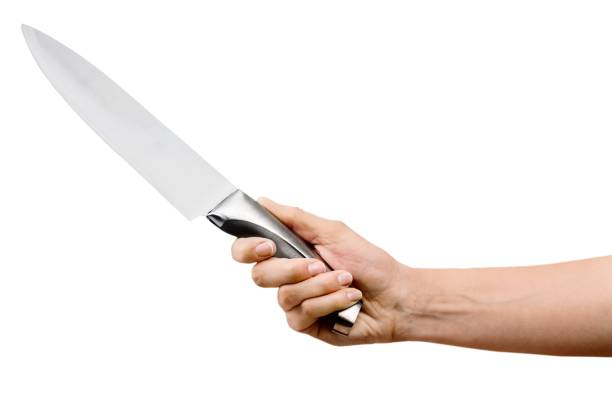knife: (19, 21, 363, 334)
